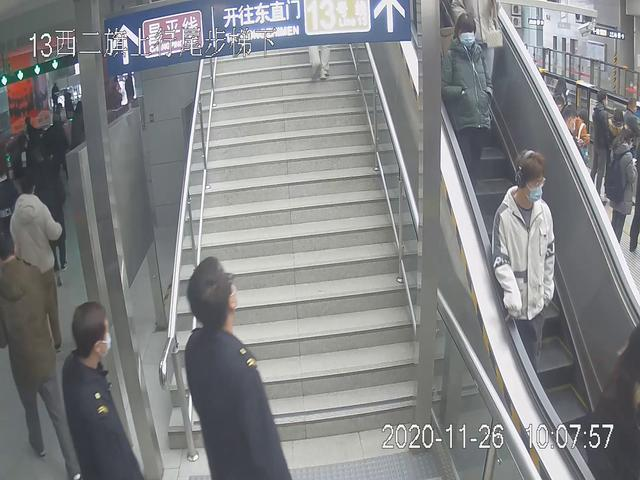person: (184, 258, 295, 480), (489, 150, 558, 399), (440, 10, 494, 205)
